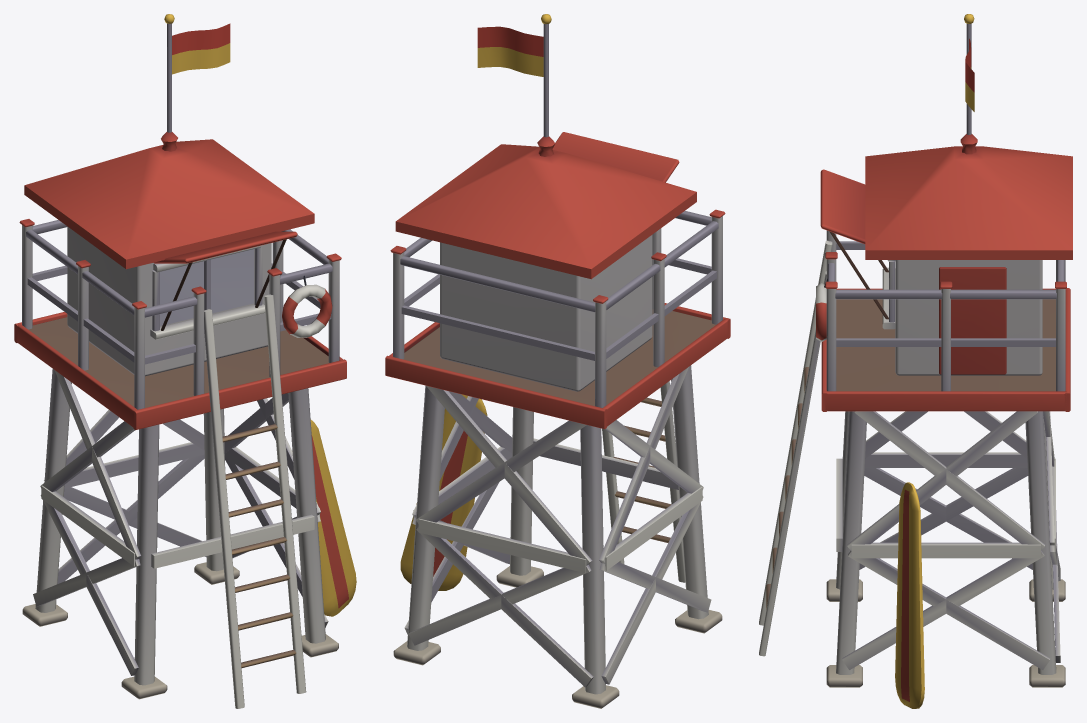
The model's file is LifeguardTower.fbx.
The picture shows the model from 3 angles, left to right: view 1: azimuth 30°, elevation 25°; view 2: azimuth 150°, elevation 25°; view 3: azimuth 270°, elevation 25°; orthographic projection. The views are drawn at different scales.
Visible parts, largest first — view 1: LifeguardTower; view 2: LifeguardTower; view 3: LifeguardTower.
Part boxes in pixels (x1,y1,x2,y2): LifeguardTower: (14, 14, 356, 708); LifeguardTower: (385, 14, 730, 708); LifeguardTower: (759, 14, 1072, 708).
Size of the model in its own units: 2.63 by 5.72 by 2.6.
